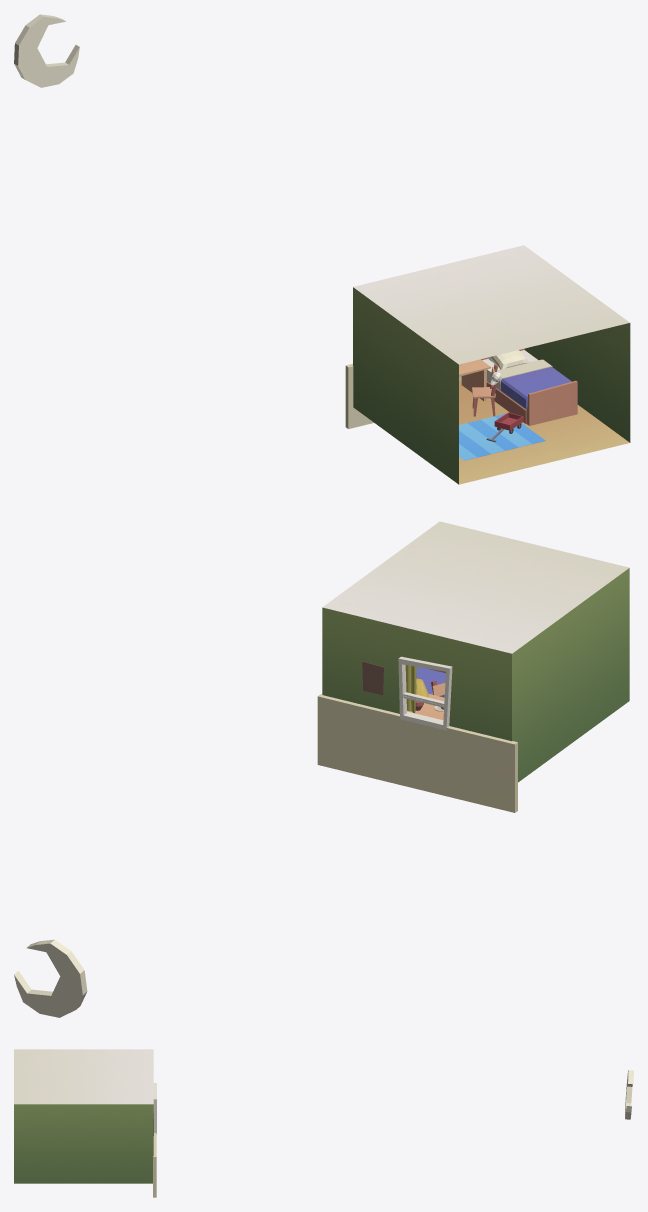
The model's file is carpet.fbx.
The picture shows the model from 3 angles, top to bottom: view 1: azimuth 30°, elevation 25°; view 2: azimuth 150°, elevation 25°; view 3: azimuth 270°, elevation 25°; orthographic projection. The views are drawn at different scales.
Visible parts, largest first — view 1: Room, Bed, moon, Carpet, Table.004; view 2: Room, moon, Window.003; view 3: Room, moon.
Part boxes in pixels (box(x1,y1,x2,y2)): Room: box(345, 245, 630, 484); Bed: box(481, 348, 577, 425); moon: box(14, 14, 79, 87); Carpet: box(459, 413, 545, 460); Table.004: box(459, 359, 490, 401); Room: box(317, 521, 629, 812); moon: box(14, 939, 87, 1017); Window.003: box(398, 656, 452, 730); Room: box(14, 1049, 156, 1197); moon: box(625, 1070, 633, 1119).
Bounding box in the file's own units: 4.64 × 3.54 × 21.02.
